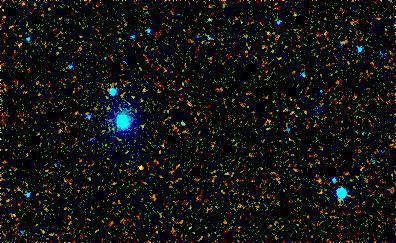star: (124, 155, 154, 185)
